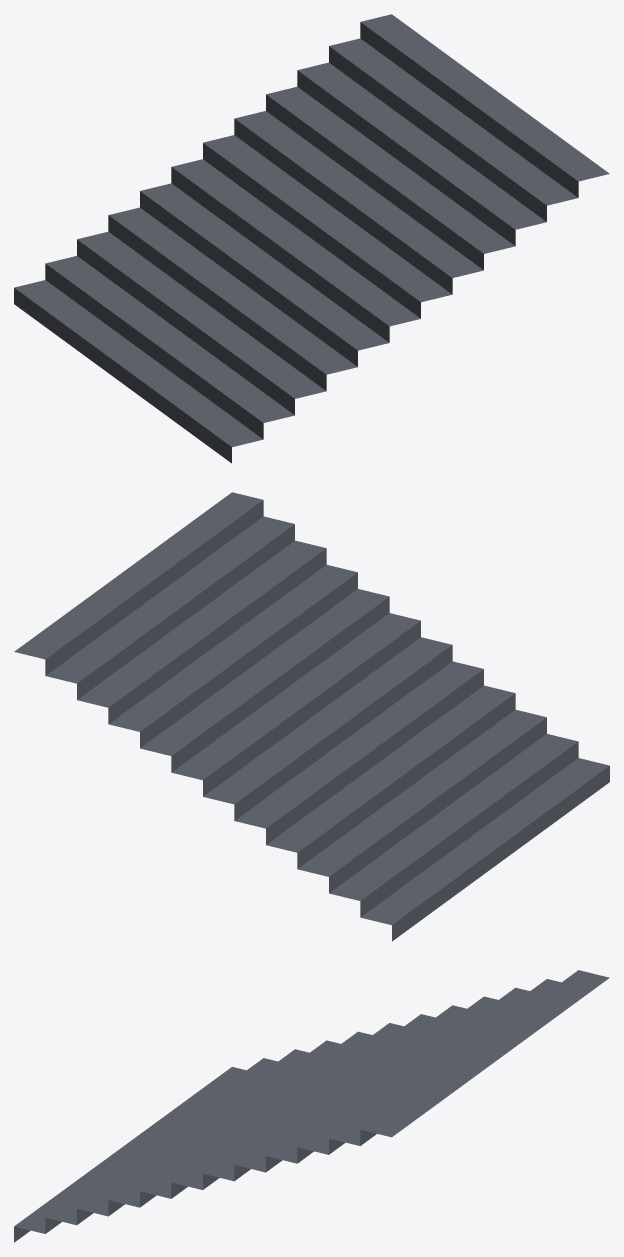
File: stairs_01_6x6x3.fbx
3 renders of one model, top to bottom at view 1: azimuth 30°, elevation 25°; view 2: azimuth 150°, elevation 25°; view 3: azimuth 330°, elevation 25°, orthographic.
Visible parts, largest first — view 1: stairs_01_6x6x3; view 2: stairs_01_6x6x3; view 3: stairs_01_6x6x3.
Boxes of the visible parts, box(x1,y1,x2,y2) form: stairs_01_6x6x3: box(14, 14, 609, 463); stairs_01_6x6x3: box(14, 492, 609, 941); stairs_01_6x6x3: box(14, 970, 609, 1242).
Bounding box in the file's own units: 600 × 300 × 600.
